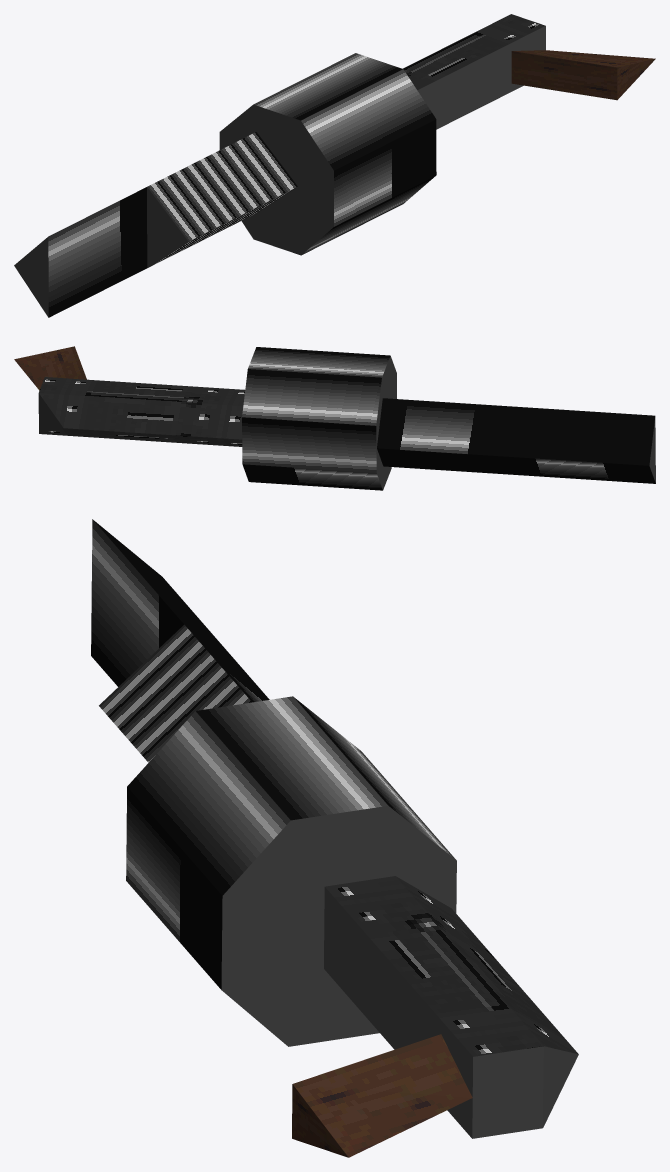
The model's file is grenade_launcher.glb.
The picture shows the model from 3 angles, top to bottom: view 1: azimuth 30°, elevation 25°; view 2: azimuth 150°, elevation 25°; view 3: azimuth 270°, elevation 25°; orthographic projection. The views are drawn at different scales.
Parts seen in each view (by area): view 1: Object; view 2: Object; view 3: Object.
Boxes of the visible parts, x1,y1,x2,y2 form: Object: [14, 14, 655, 317]; Object: [14, 346, 655, 490]; Object: [91, 519, 578, 1157].
Size of the model in its own units: 0.9156 by 0.1703 by 0.3285.
5 materials, 5 textured.
